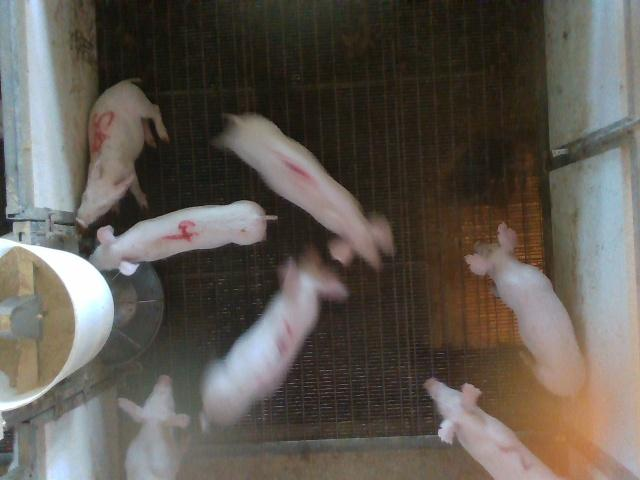pig-1: (214, 114, 394, 269)
pig-3: (201, 248, 348, 425), (425, 379, 560, 479)
pig-4: (90, 200, 271, 275)
pig-5: (76, 79, 169, 228)
